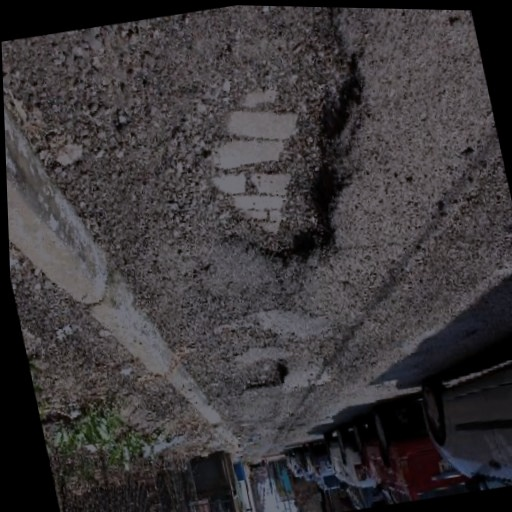pothole: (154, 3, 408, 282), (235, 353, 295, 399)
